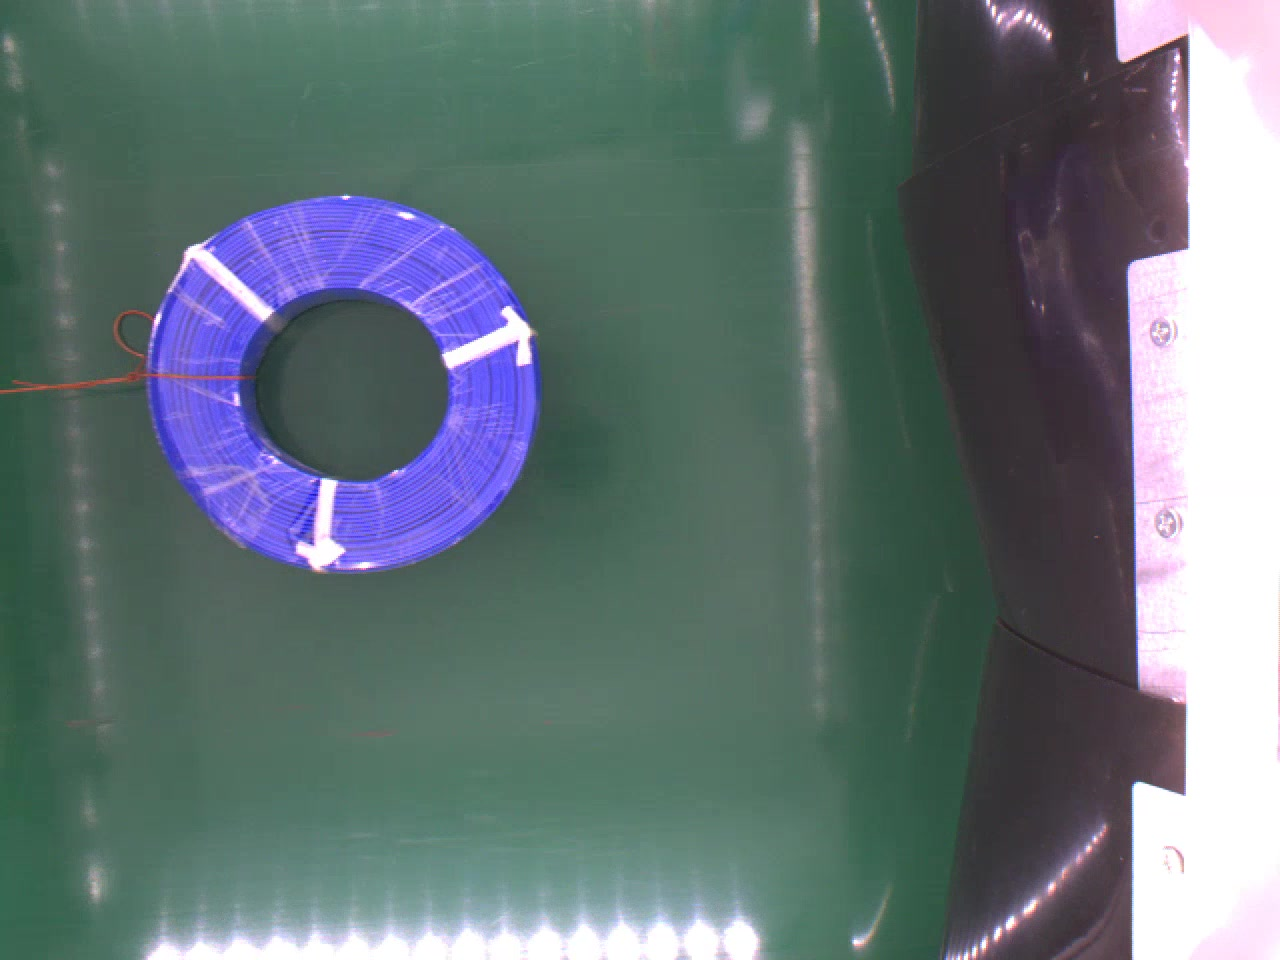blue: (147, 193, 539, 571)
